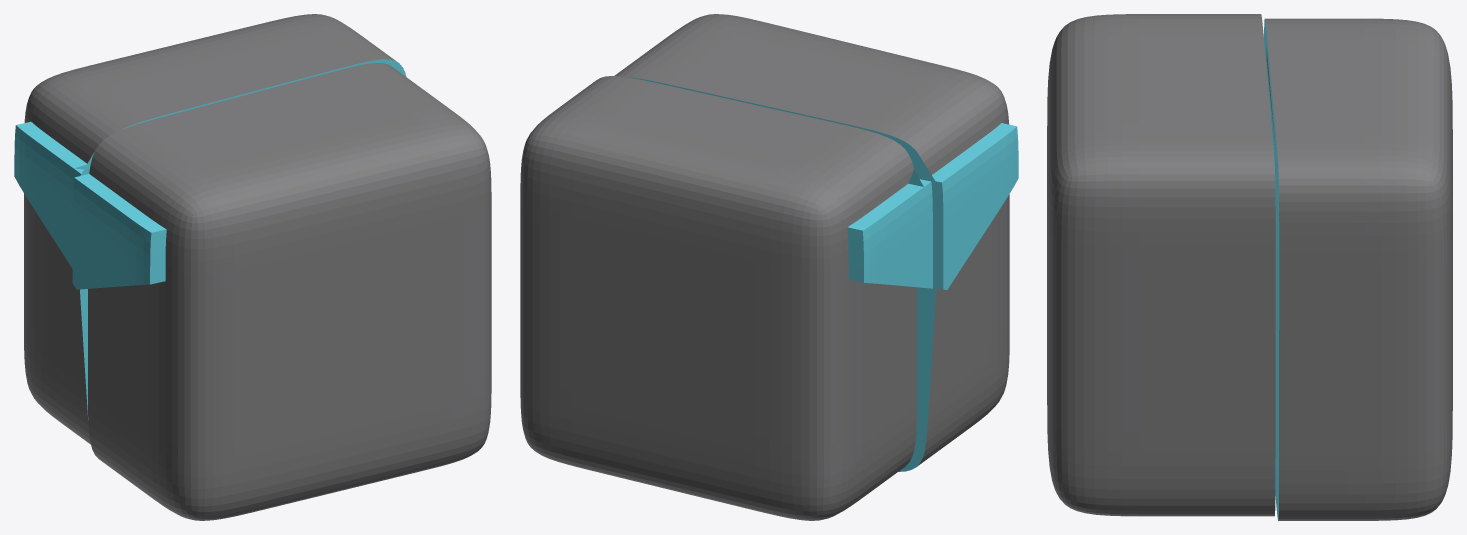
Rendered from split.fbx.
The picture shows the model from 3 angles, left to right: view 1: azimuth 30°, elevation 25°; view 2: azimuth 150°, elevation 25°; view 3: azimuth 270°, elevation 25°; orthographic projection. The views are drawn at different scales.
Parts seen in each view (by area): view 1: Cube, Cube.001; view 2: Cube.001, Cube; view 3: Cube, Cube.001.
Boxes of the visible parts, bbox=[...] form: Cube: bbox=[72, 63, 491, 520]; Cube.001: bbox=[14, 14, 406, 444]; Cube.001: bbox=[520, 76, 932, 520]; Cube: bbox=[614, 14, 1018, 471]; Cube: bbox=[1047, 14, 1275, 516]; Cube.001: bbox=[1263, 18, 1452, 520].
Bounding box in the file's own units: 215 × 200 × 202.
